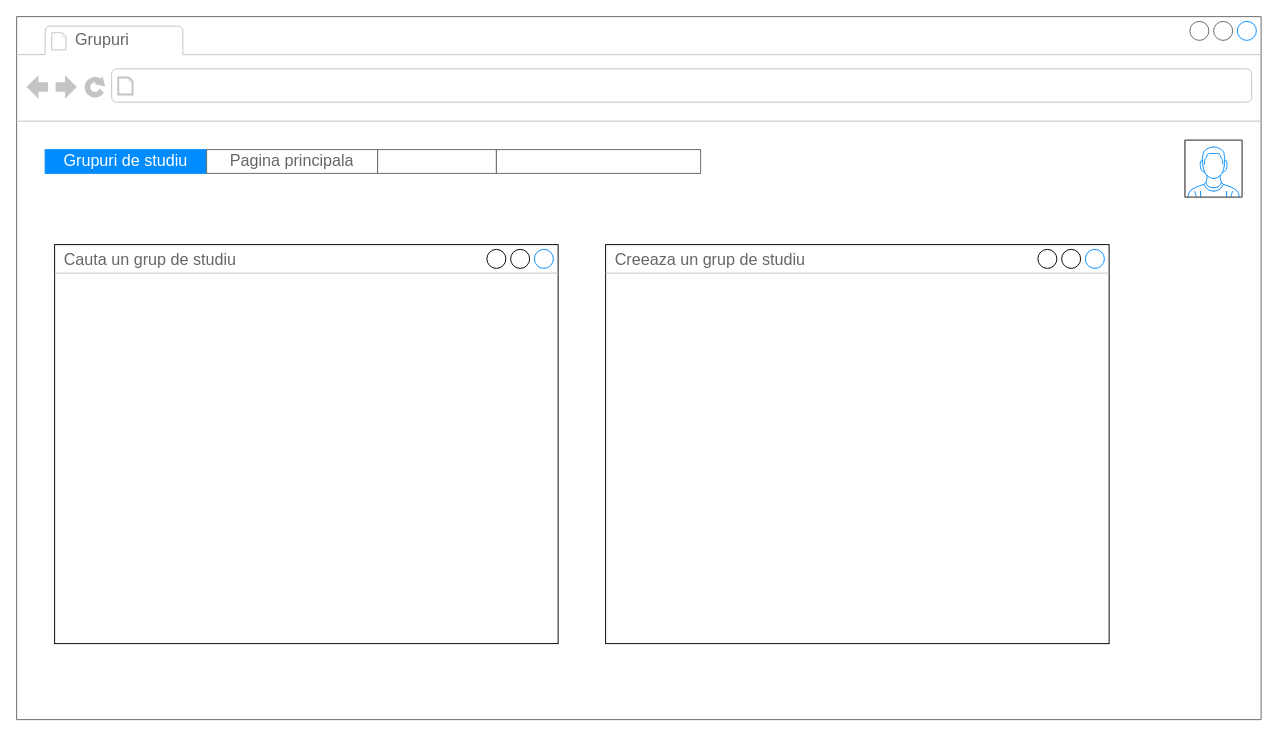
The diagram is 1278 pixels wide and 736 high, and some of its shapes have lost their labels. Here are the shapes that lost their labels. From the top down, the centre of each, then its label:
At (x=258, y=85): "https://www.notiteonline.com".
At (x=436, y=161): "Notite".
At (x=598, y=161): "Intrebari si raspunsuri".
